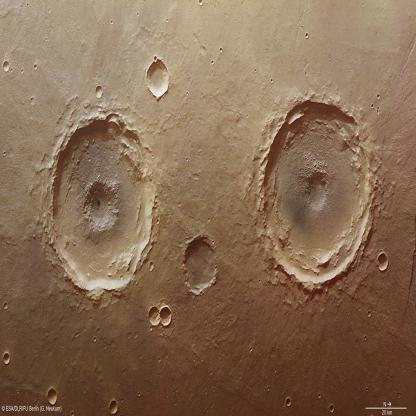craters: (246, 86, 381, 302), (31, 96, 158, 314), (174, 221, 222, 300), (298, 158, 337, 219), (138, 52, 182, 106), (34, 379, 66, 408), (100, 395, 133, 416), (155, 298, 174, 330), (279, 386, 299, 413), (92, 75, 108, 103), (375, 250, 391, 273), (0, 60, 17, 79), (148, 303, 160, 326), (323, 399, 340, 413), (2, 351, 12, 368)
